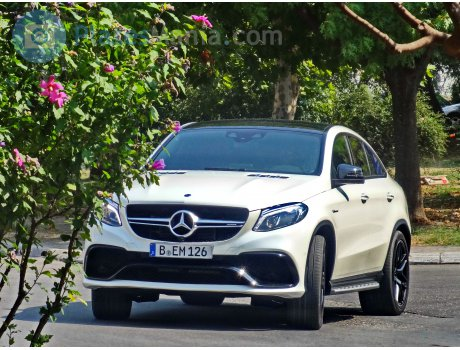License Plates: (157, 244, 210, 253)
